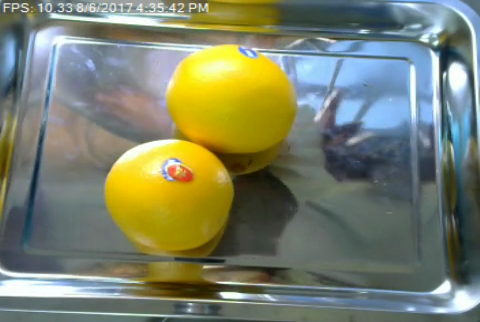Orange: (103, 137, 234, 250), (165, 44, 297, 152)
